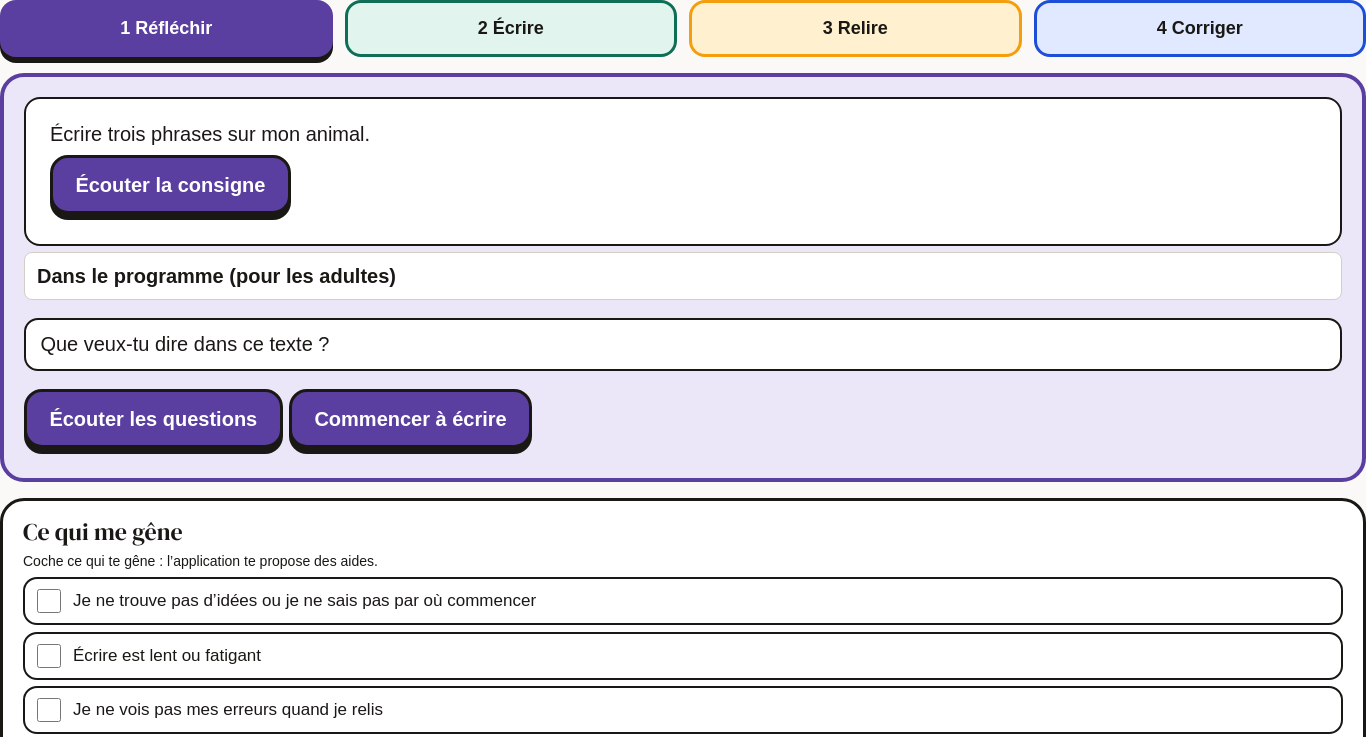
EcranEleve : chaque aide du catalogue a un effet visible (amélioration 2) › colorisation : un choix de coloration apparaît à la relecture
This screenshot has width=1366, height=737.
Click the button "Commencer à écrire".
click(411, 419)  # box x1=289 y1=389 x2=532 y2=448
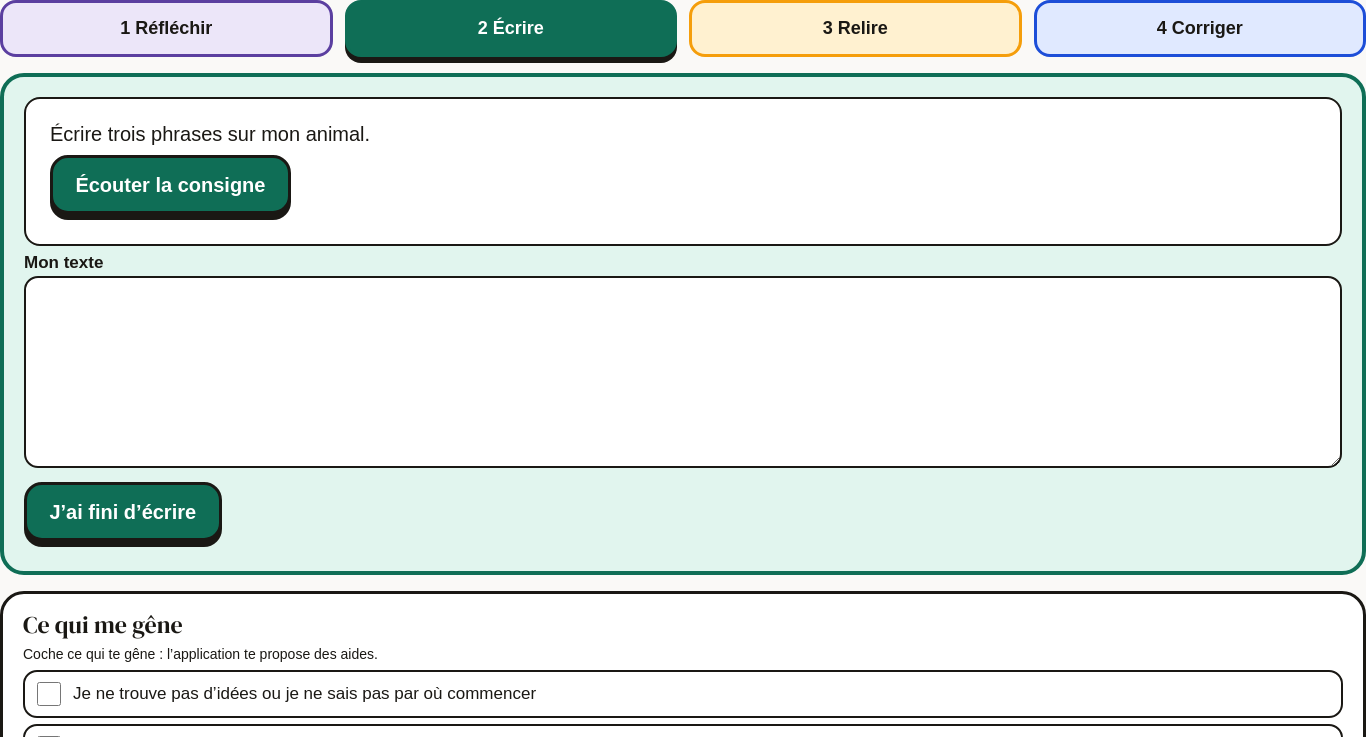
Type "Un chat." into the text box labelled "Mon texte".
click(683, 372); type("Un chat.")  # box x1=24 y1=276 x2=1342 y2=468
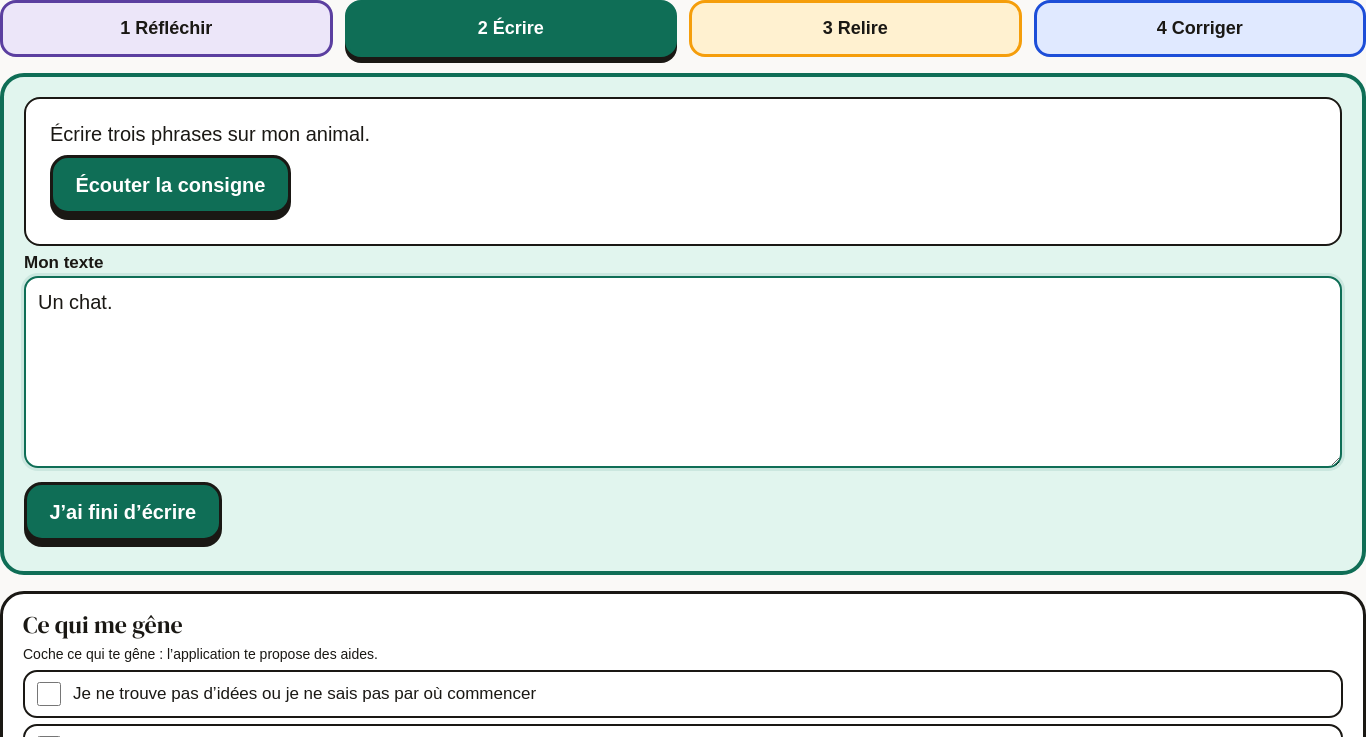
Click the button "J’ai fini d’écrire".
click(123, 512)  # box x1=24 y1=482 x2=222 y2=541
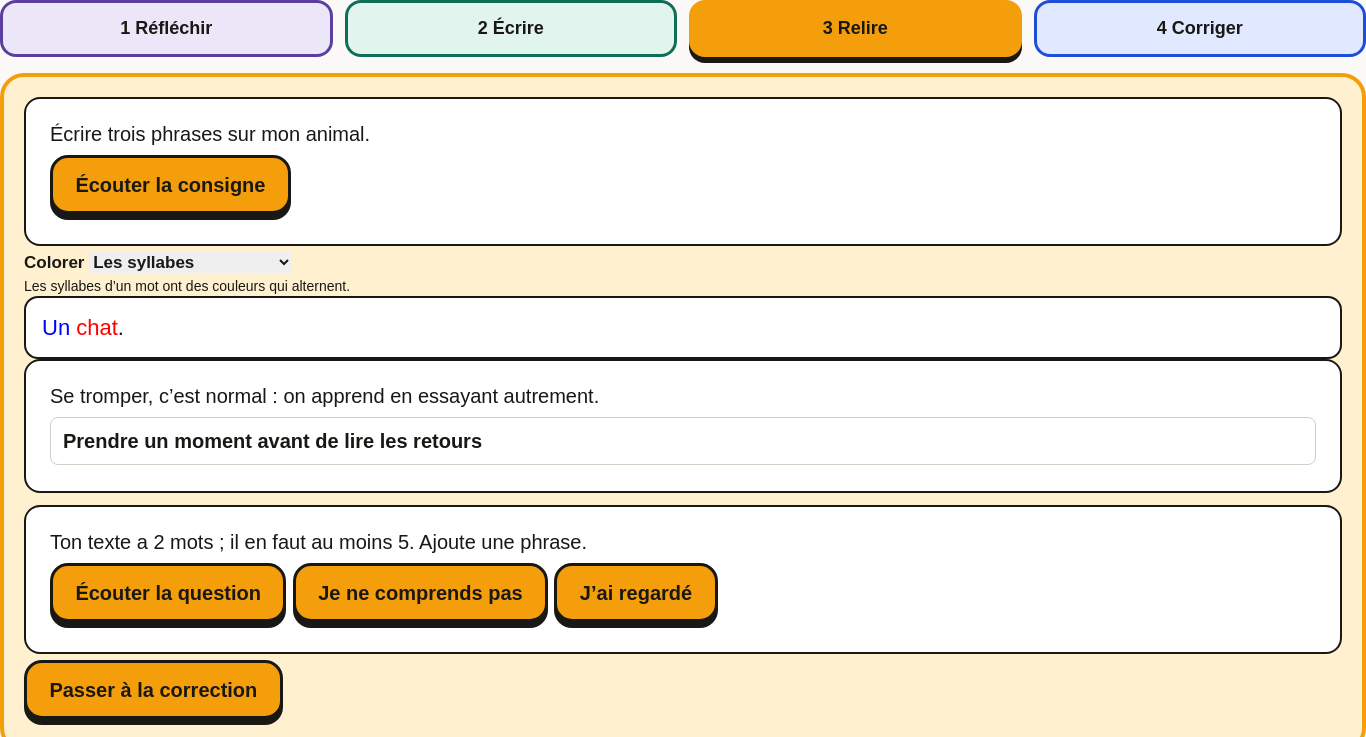
Result: the dropdown labelled "Colorer" is shown at x1=89 y1=252 x2=292 y2=273
